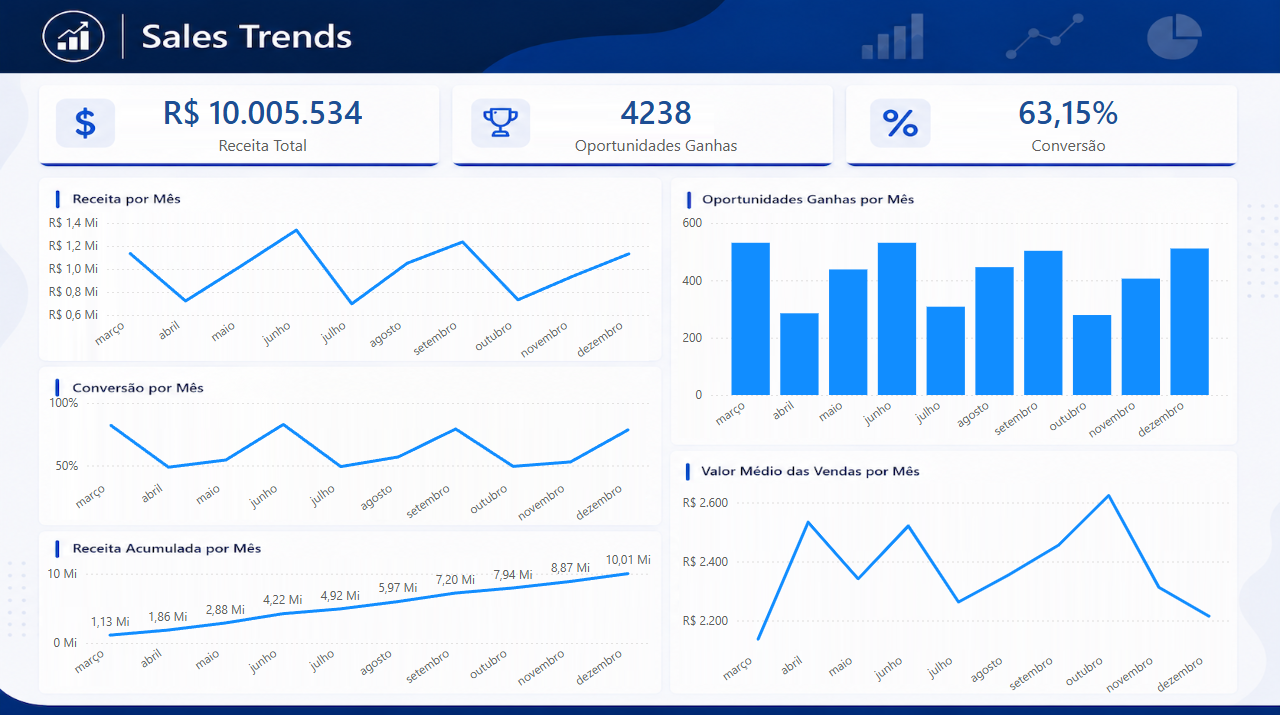

Layout of this report page (visuals, bound fields, positions):
{"tool":"powerbi","page":{"name":"Trends","canvas":[1280,720],"ordinal":3},"visuals":[{"type":"cardVisual","fields":{"Data":["sales_pipeline.Receita"]},"box":[111.4,53.6,302.5,143.5],"z":0},{"type":"cardVisual","fields":{"Data":["sales_pipeline.Oportunidades Ganhas"]},"box":[504.5,53.6,302.5,143.5],"z":1000},{"type":"cardVisual","fields":{"Data":["sales_pipeline.Conversão"]},"box":[917.3,53.6,302.5,143.5],"z":2000},{"type":"lineChart","fields":{"Y":["sales_pipeline.Receita"],"Category":["Calendario.Date.Variation.Hierarquia de datas.Mês"]},"box":[42.5,212.5,613.3,164.2],"z":3000},{"type":"columnChart","fields":{"Y":["sales_pipeline.Oportunidades Ganhas"],"Category":["Calendario.Date.Variation.Hierarquia de datas.Mês"]},"box":[676.7,212.5,557.5,252.5],"z":4000},{"type":"lineChart","fields":{"Y":["sales_pipeline.Conversão"],"Category":["Calendario.Date.Variation.Hierarquia de datas.Mês"]},"box":[42.5,393.3,613.3,144.2],"z":5000},{"type":"lineChart","fields":{"Y":["sales_pipeline.Média Venda"],"Category":["Calendario.Date.Variation.Hierarquia de datas.Mês"]},"box":[676.7,462.5,557.5,257.5],"z":6000},{"type":"lineChart","fields":{"Category":["Calendario.Date.Variation.Hierarquia de datas.Mês"],"Y":["sales_pipeline.Receita Acumulada"]},"box":[42.1,528.6,613.6,180.7],"z":7000}]}

Visuals, with their boxes in screenshot pixels (x1, y1, x2, y2), scaled from the page's 1280x720 canvas onto the 1280x715 screenshot:
cardVisual - sales_pipeline.Receita: (111,53,414,196)
cardVisual - sales_pipeline.Oportunidades Ganhas: (504,53,807,196)
cardVisual - sales_pipeline.Conversão: (917,53,1220,196)
lineChart - sales_pipeline.Receita x Calendario.Date.Variation.Hierarquia de datas.Mês: (42,211,656,374)
columnChart - sales_pipeline.Oportunidades Ganhas x Calendario.Date.Variation.Hierarquia de datas.Mês: (677,211,1234,462)
lineChart - sales_pipeline.Conversão x Calendario.Date.Variation.Hierarquia de datas.Mês: (42,391,656,534)
lineChart - sales_pipeline.Média Venda x Calendario.Date.Variation.Hierarquia de datas.Mês: (677,459,1234,714)
lineChart - Calendario.Date.Variation.Hierarquia de datas.Mês x sales_pipeline.Receita Acumulada: (42,525,656,704)
